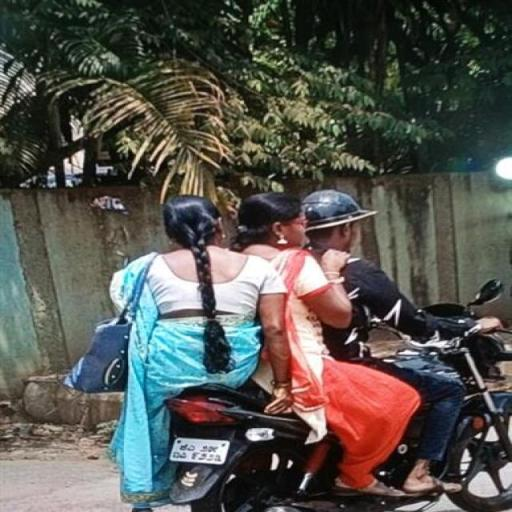tripple riding: (102, 185, 505, 385)
